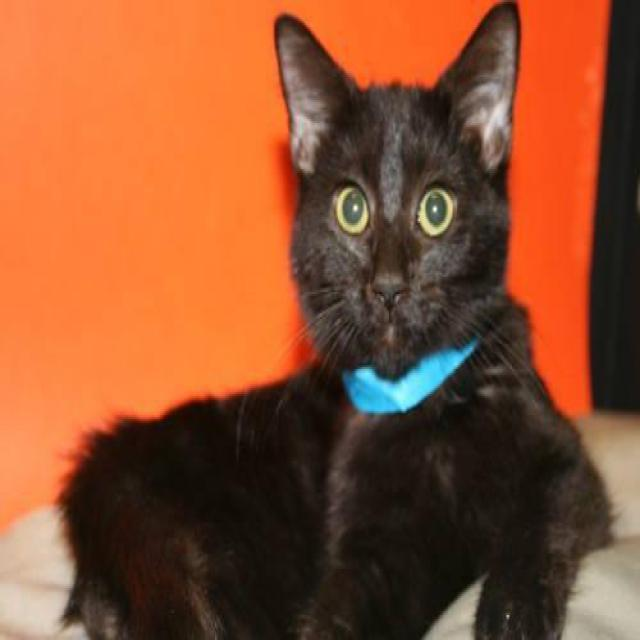cat: (63, 0, 605, 640)
